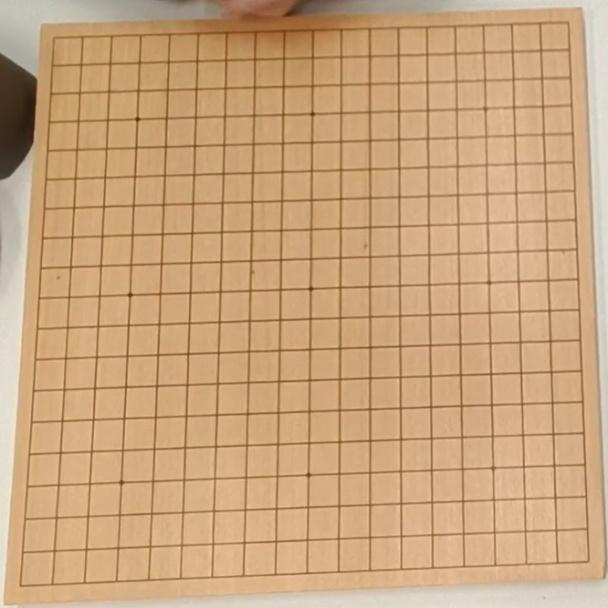corners: (571, 536, 603, 580), (547, 9, 582, 48), (9, 561, 39, 605), (42, 23, 74, 60)
